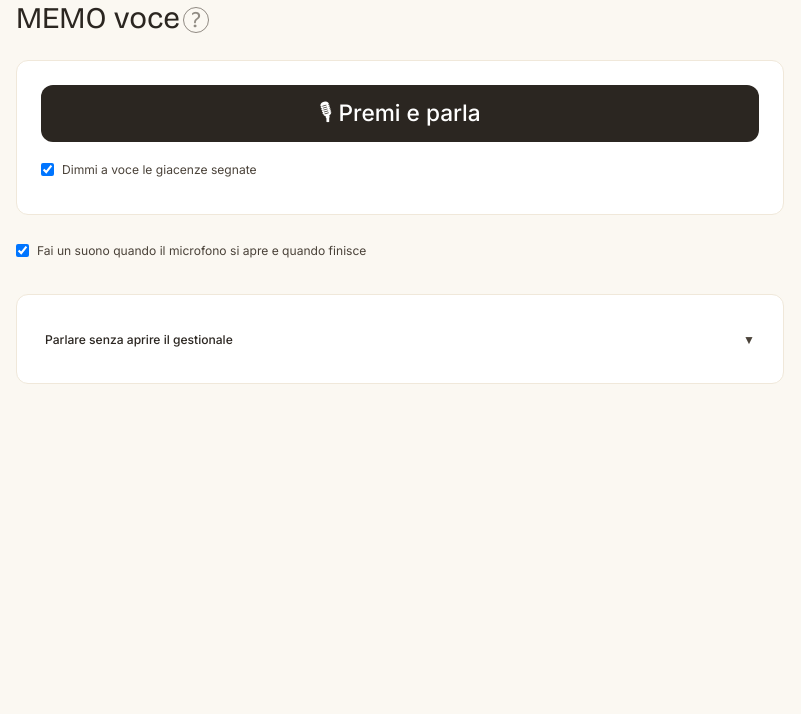
Scenario: ⚠️ fra la scrittura e la rilettura › 🔴 una scelta RIFIUTATA si dice sulla scheda, non sparisce
Click the button "🎙 Premi e parla" at (400, 114), box 41,85 -> 759,142
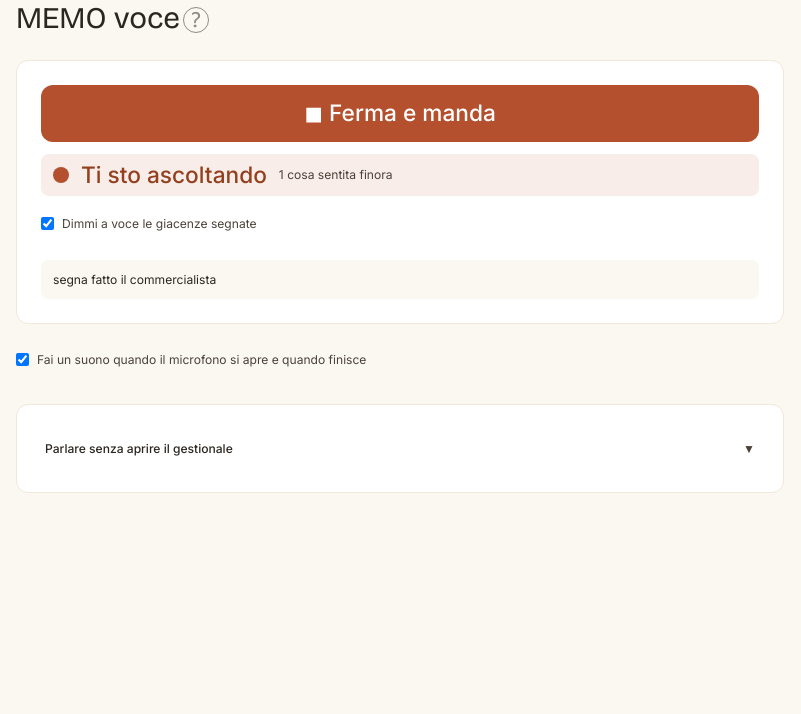
Click the button "◼ Ferma e manda" at (400, 114), box 41,85 -> 759,142
(page scrolled)
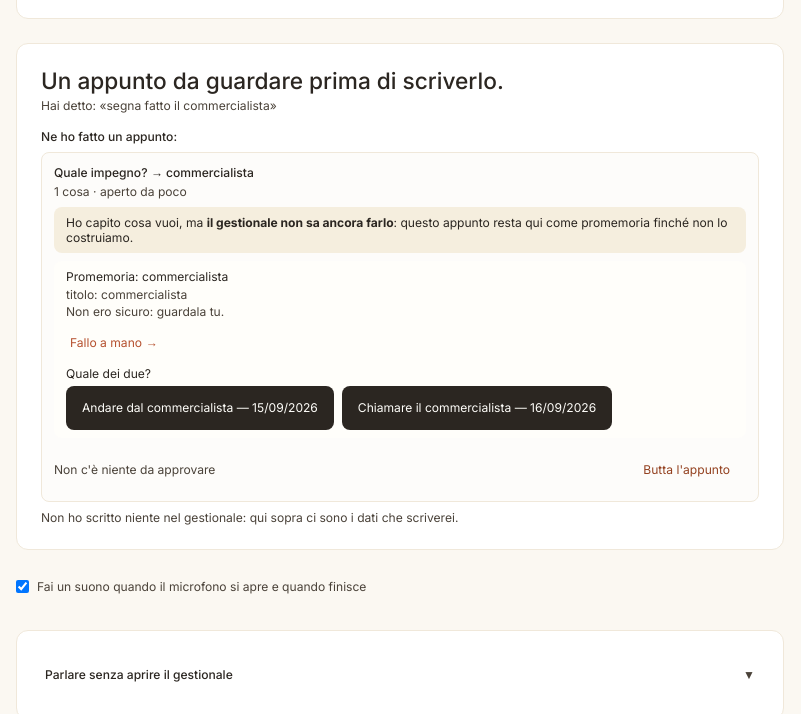
Check: the button "Andare dal commercialista — 15/09/2026" is shown
Click the button "Andare dal commercialista — 15/09/2026" at (200, 408), box 66,386 -> 334,430
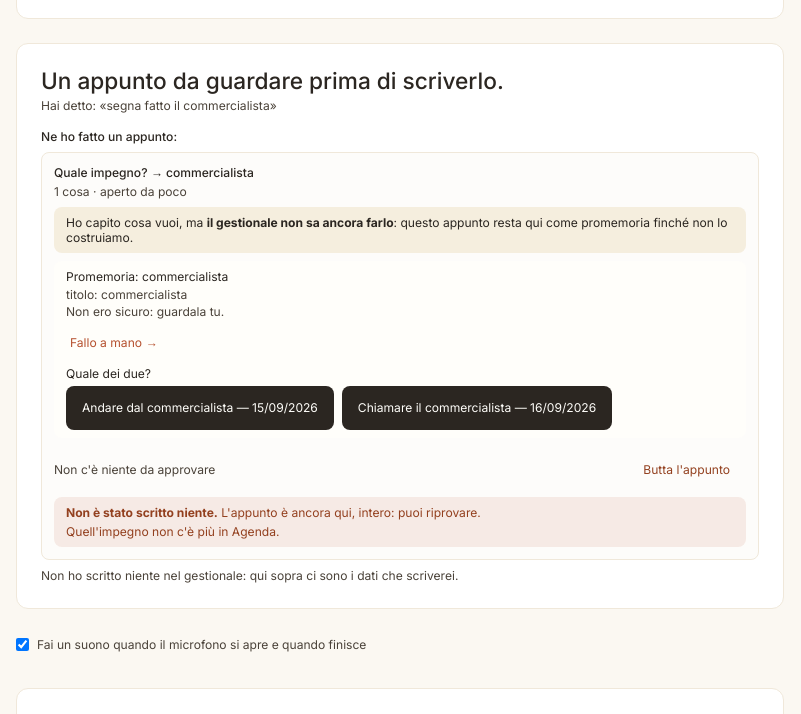
Check: the text "Quell'impegno non c'è più in Agenda." is shown, box 66,524 -> 279,539
Check: the text "Non è stato scritto niente." is shown, box 66,505 -> 218,520
